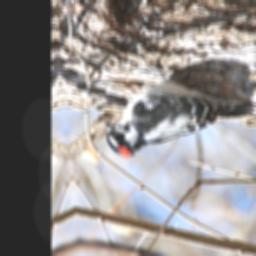Woodpecker: (95, 67, 256, 164)
